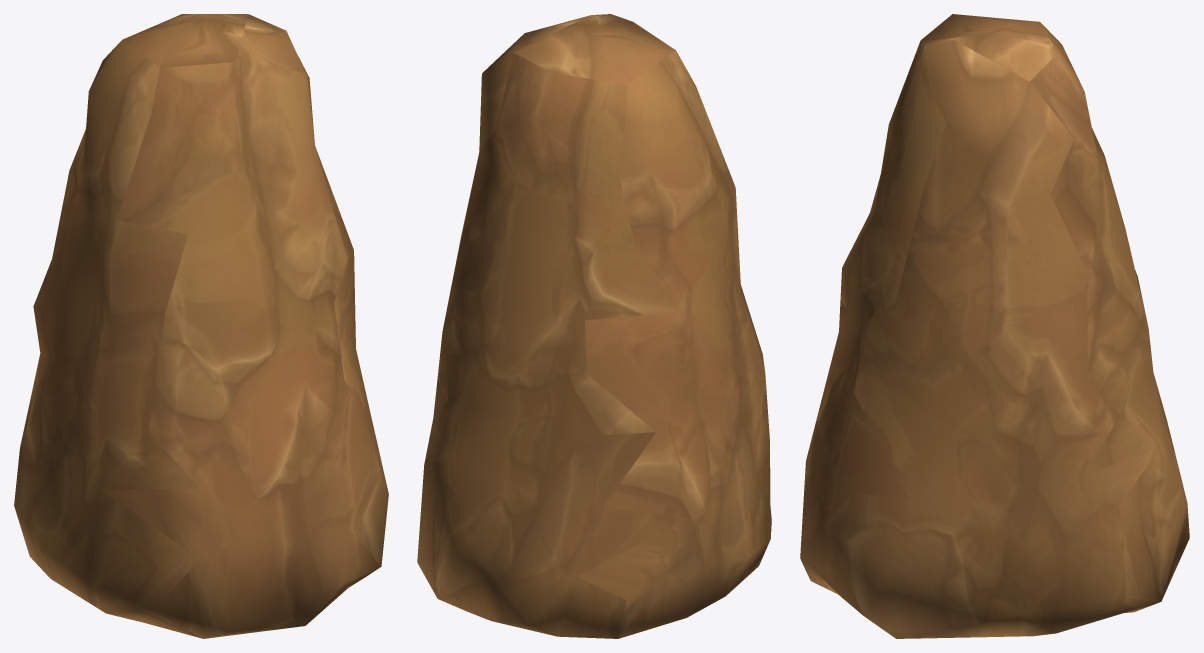
Rendered from SM_Rock_2.fbx.
3 views of the same model, side by side, from view 1: azimuth 30°, elevation 25°; view 2: azimuth 150°, elevation 25°; view 3: azimuth 270°, elevation 25° (orthographic). The views are drawn at different scales.
Parts seen in each view (by area): view 1: Cube.003; view 2: Cube.003; view 3: Cube.003.
Part boxes in pixels (x1,y1,x2,y2): Cube.003: (14, 14, 388, 638); Cube.003: (417, 14, 771, 638); Cube.003: (800, 14, 1189, 638).
Bounding box in the file's own units: 908 × 1639 × 1009.
